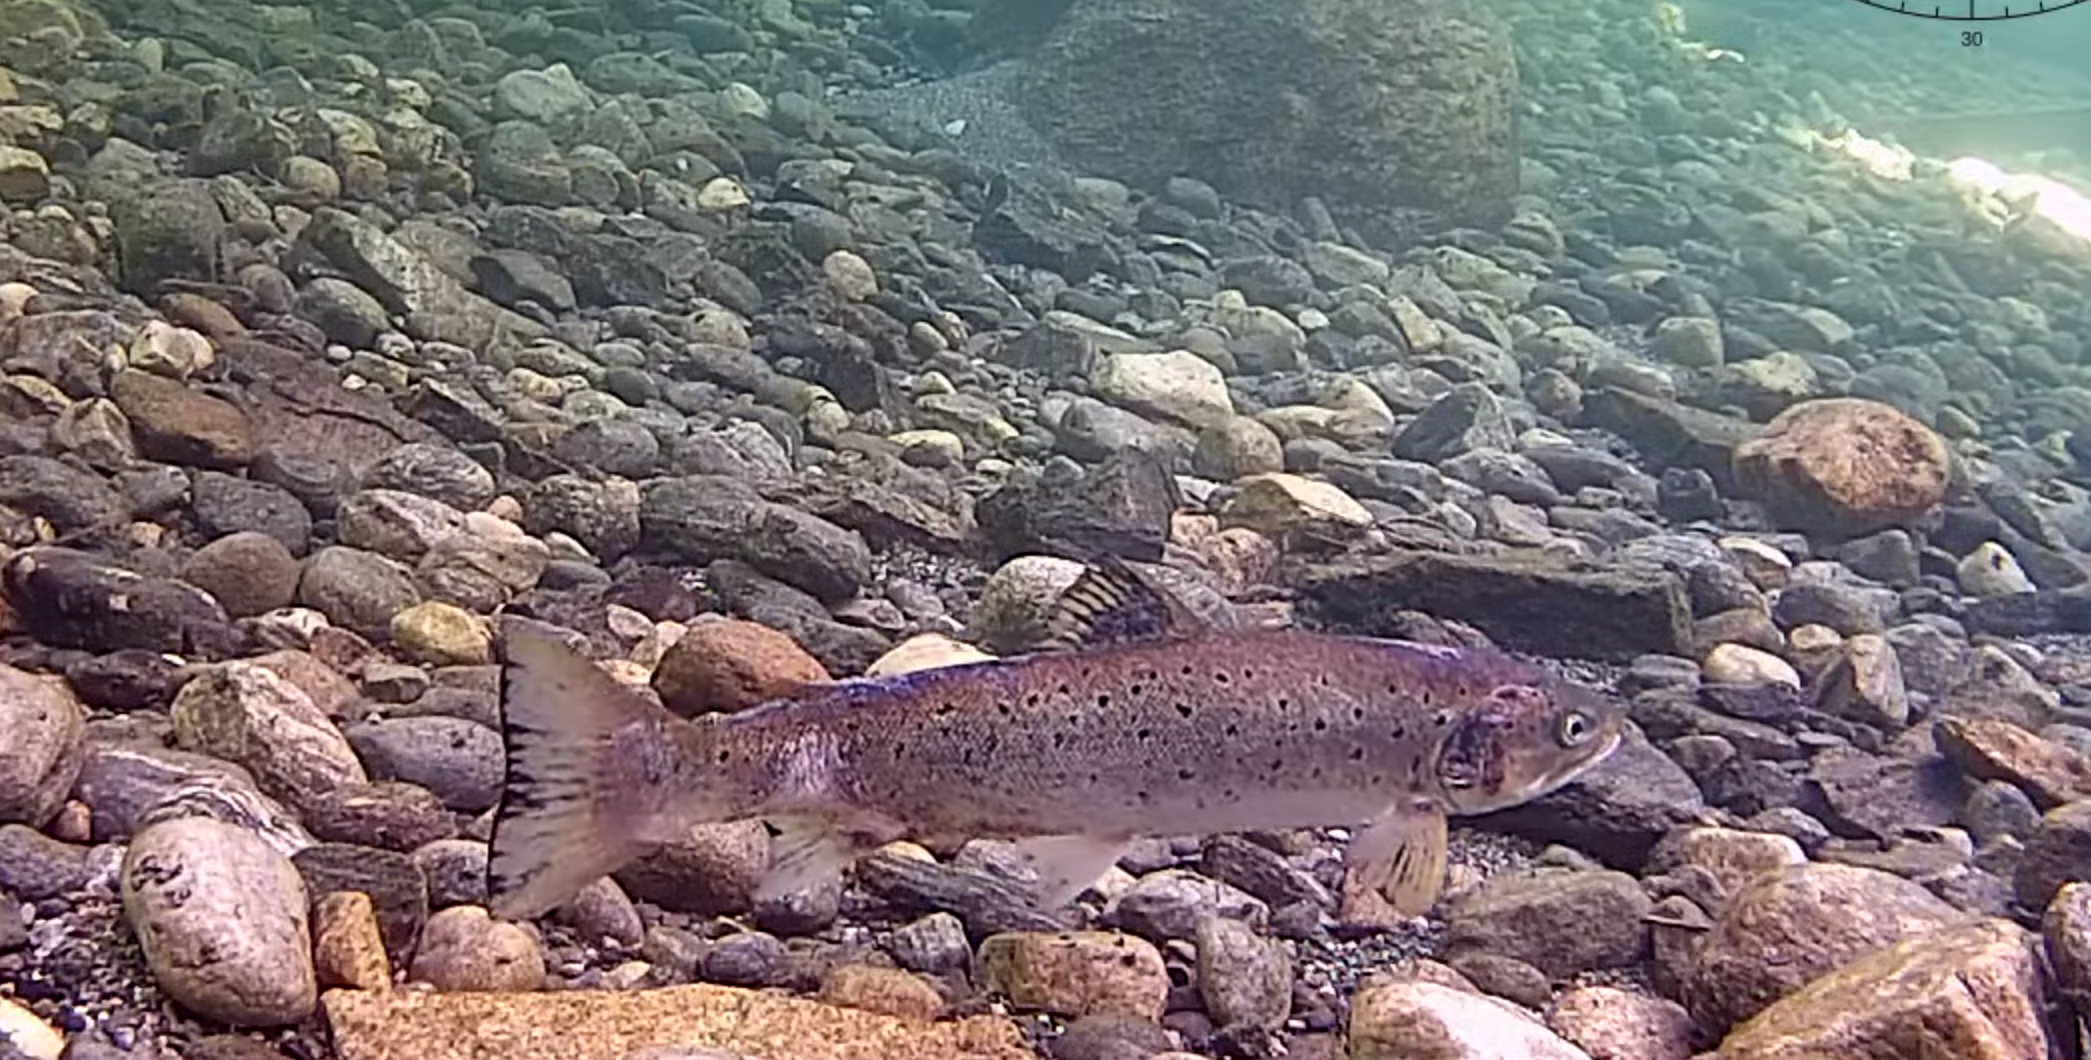salmon: (481, 544, 1638, 926)
